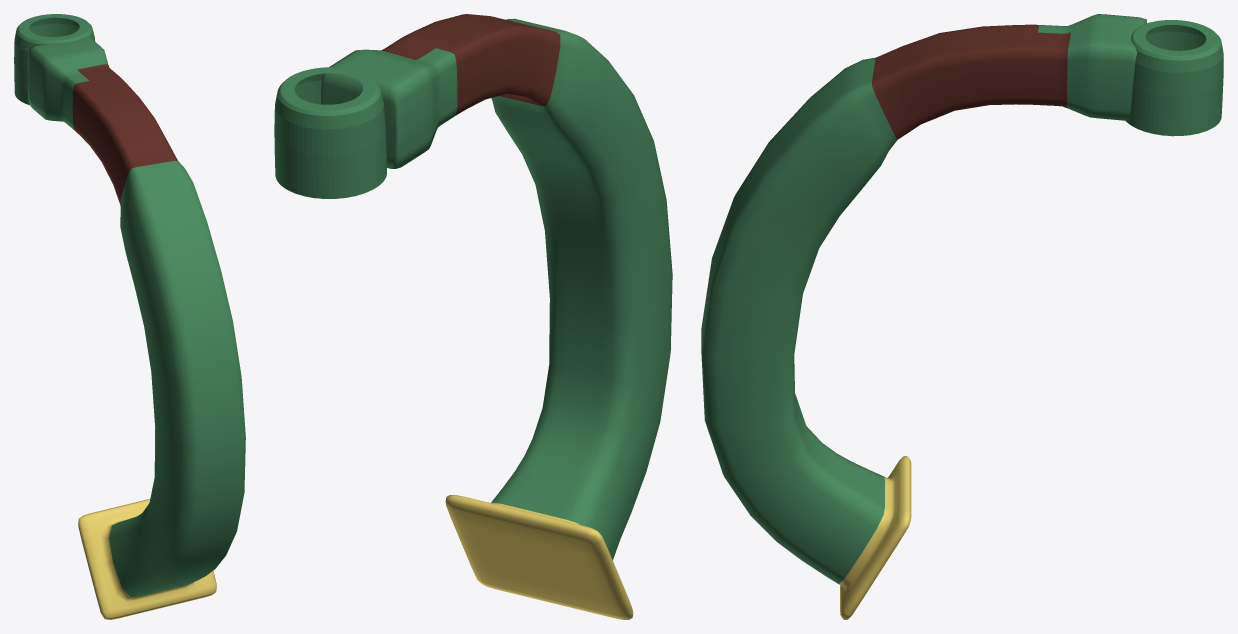
The model's file is lid1.fbx.
3 renders of one model, left to right at view 1: azimuth 30°, elevation 25°; view 2: azimuth 150°, elevation 25°; view 3: azimuth 270°, elevation 25°, orthographic. The views are drawn at different scales.
Visible parts, largest first — view 1: Plane.001; view 2: Plane.001; view 3: Plane.001.
Part boxes in pixels (bbox=[...]): Plane.001: bbox=[14, 14, 245, 619]; Plane.001: bbox=[274, 14, 672, 619]; Plane.001: bbox=[701, 14, 1223, 619].
Bounding box in the file's own units: 262 × 948 × 784.
